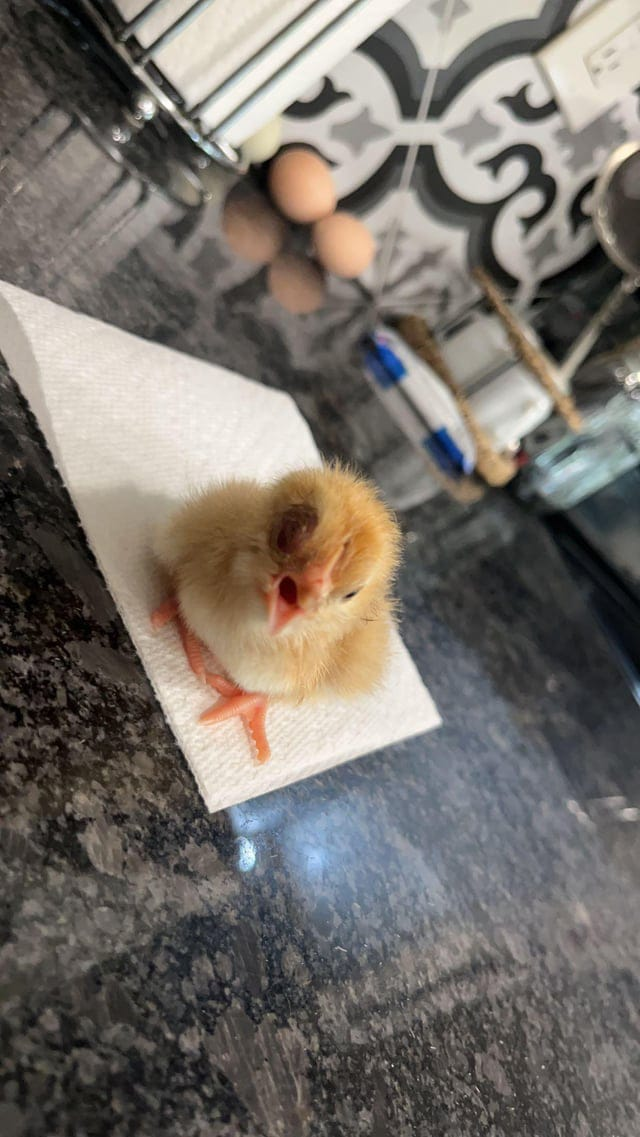Unhealthy: (120, 424, 456, 789)
